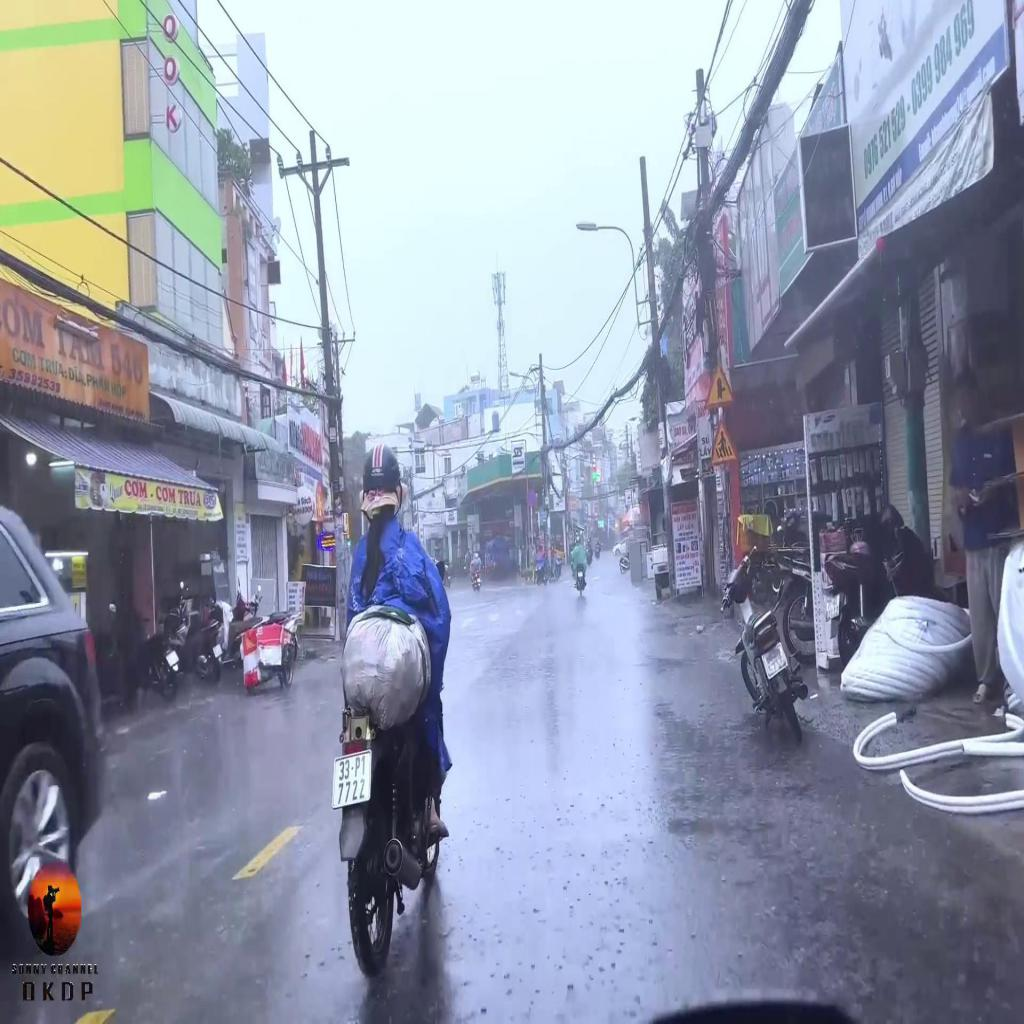chu_y_nguoi_di_bo_cat_ngang: (710, 422, 741, 465)
giao_nhau_voi_duong_khong_uu_tien: (704, 362, 738, 407)
